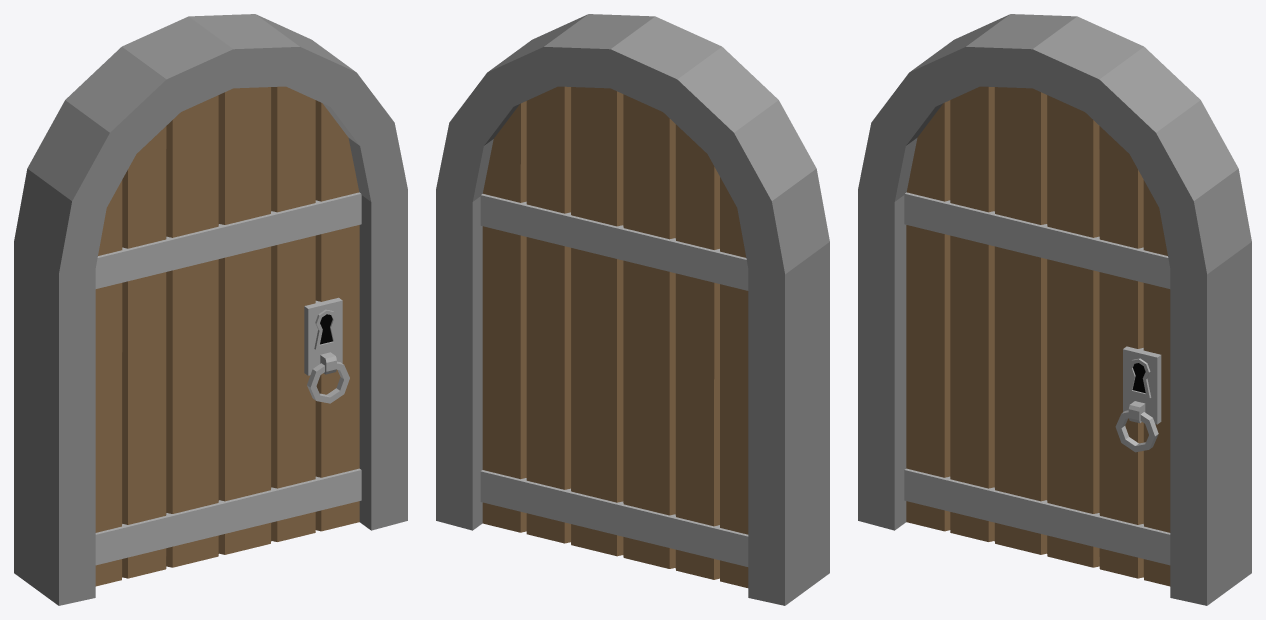
The model's file is AlchemyLabDoor.fbx.
3 renders of one model, left to right at view 1: azimuth 30°, elevation 25°; view 2: azimuth 150°, elevation 25°; view 3: azimuth 330°, elevation 25°, orthographic.
Visible parts, largest first — view 1: Door; view 2: Door; view 3: Door.
Boxes of the visible parts, bbox=[...] form: Door: bbox=[14, 14, 407, 605]; Door: bbox=[436, 14, 829, 605]; Door: bbox=[858, 14, 1251, 605].
Size of the model in its own units: 127 by 179 by 28.22.
